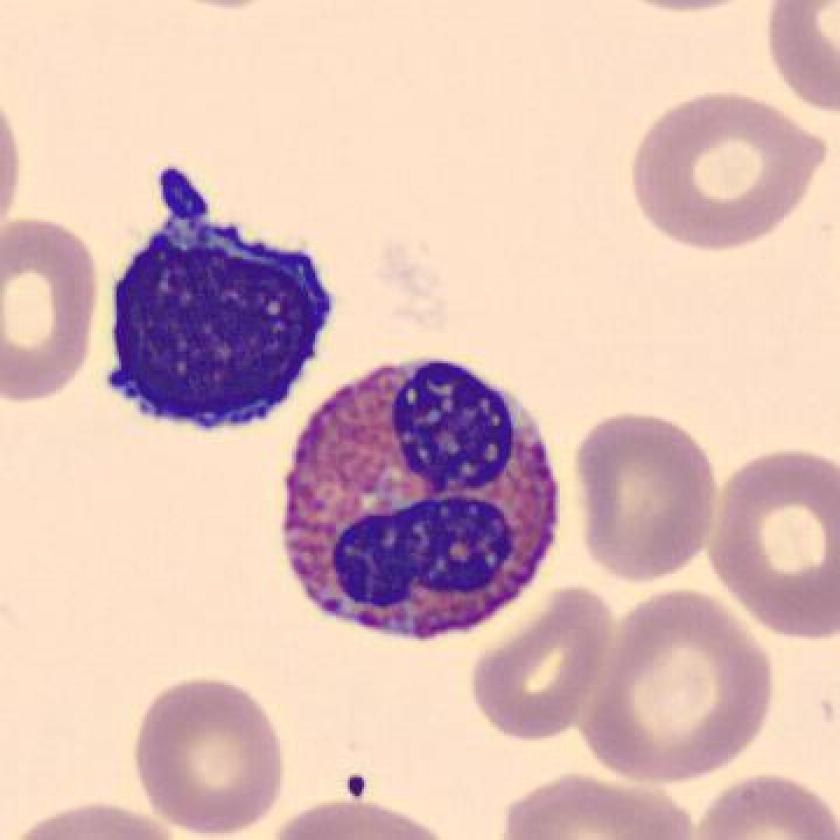eosinophil: (267, 346, 573, 654)
